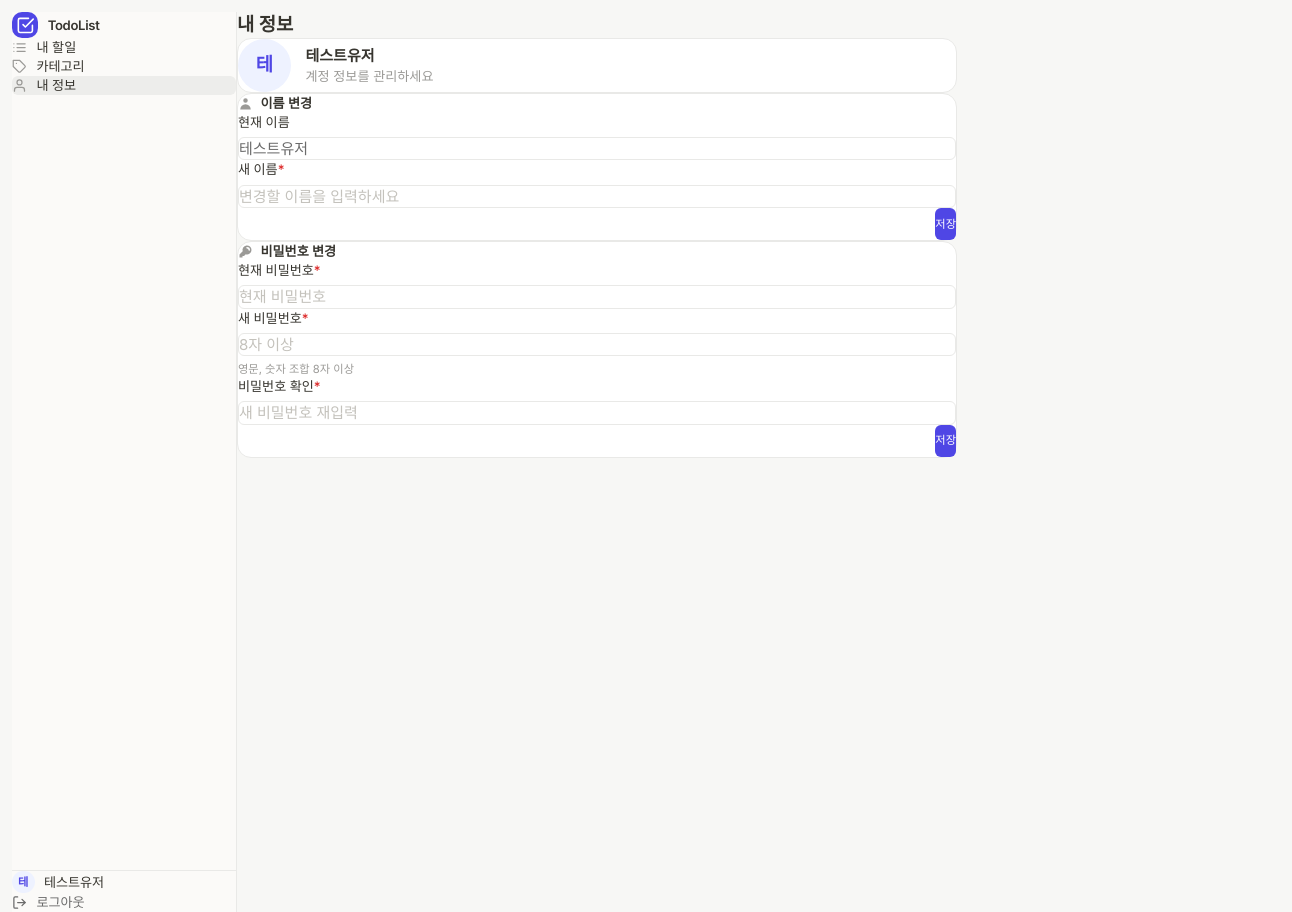
it: MyProfilePage › 비밀번호 변경 폼에서 현재 비밀번호 미입력 시 에러가 표시된다
This screenshot has width=1292, height=912.
Click the 2nd button "저장" at x=946, y=441, box [935,425,956,457]
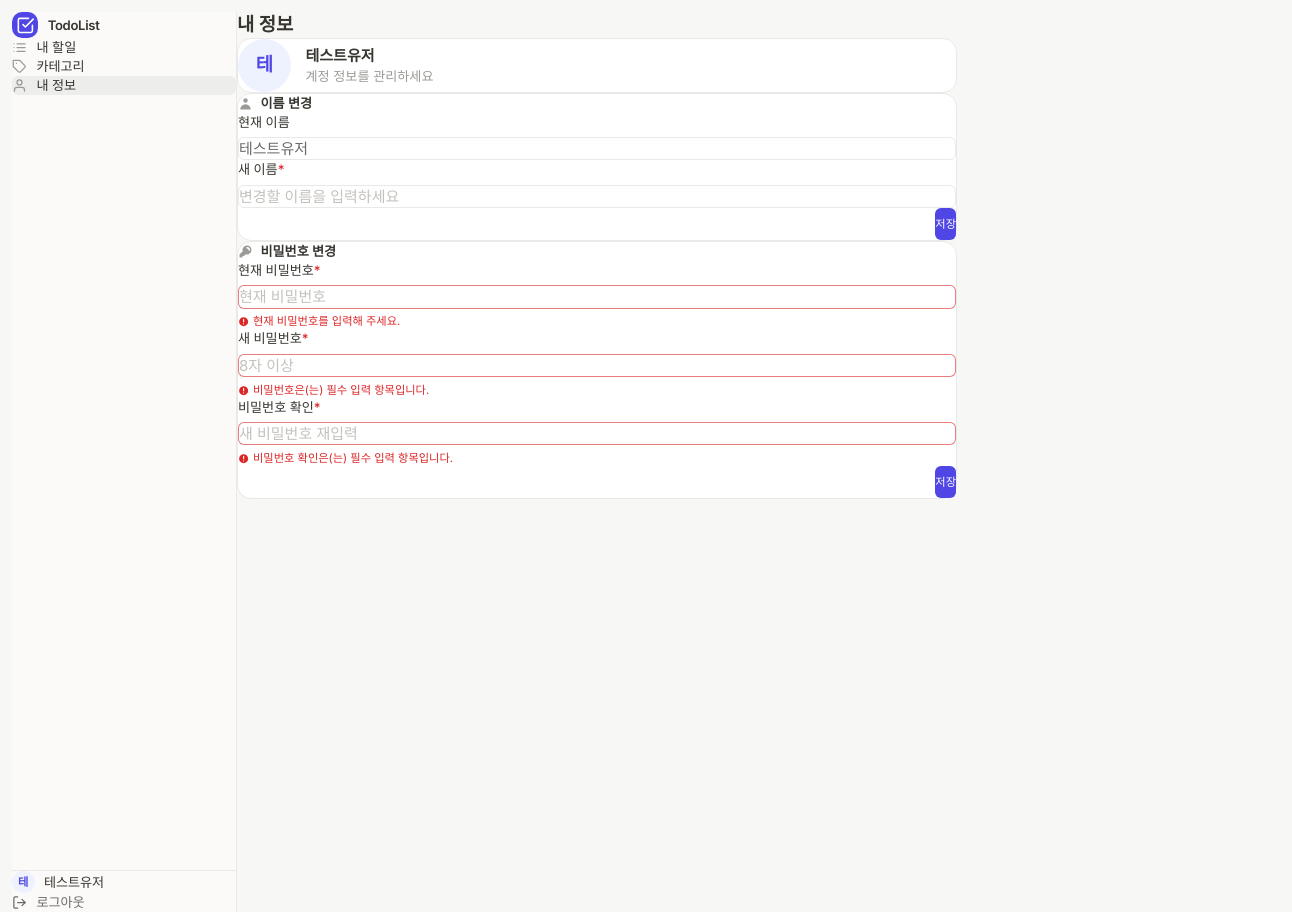
Expected: the text "현재 비밀번호를 입력해 주세요." is shown, [238,314,400,328]
